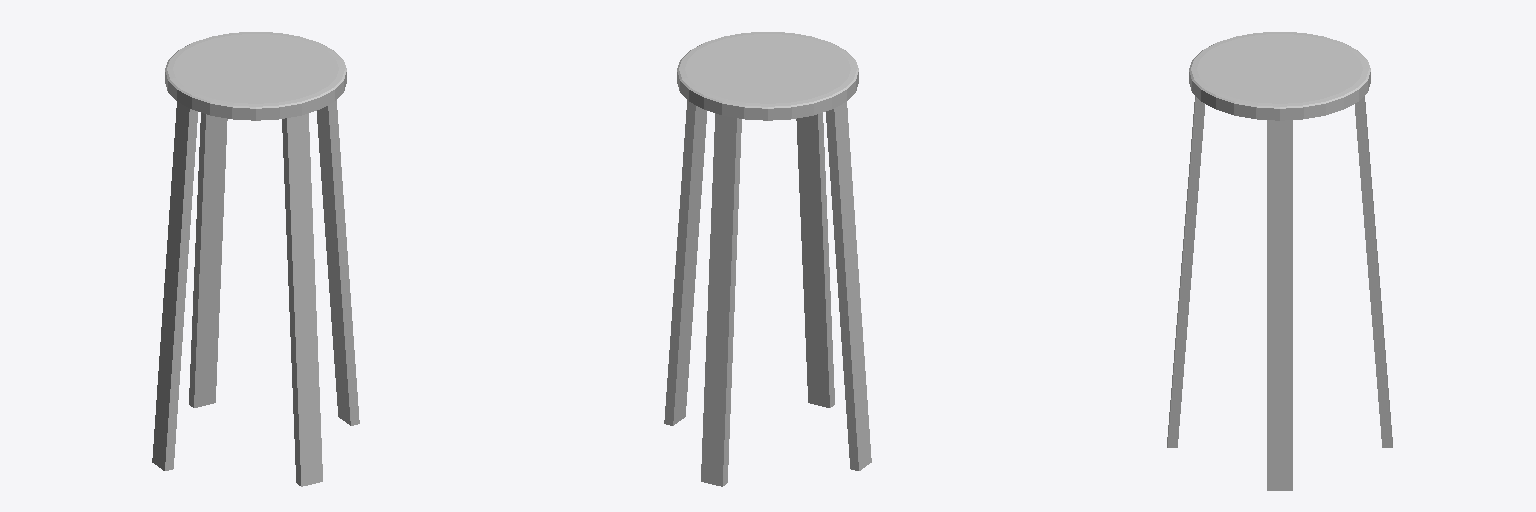
Rendered from stool.obj.
The picture shows the model from 3 angles: view 1: azimuth 30°, elevation 25°; view 2: azimuth 150°, elevation 25°; view 3: azimuth 270°, elevation 25°; orthographic projection.
Visible parts, largest first — view 1: Cube.001, Cube, Cylinder; view 2: Cube.001, Cube, Cylinder; view 3: Cylinder, Cube, Cube.001.
Boxes of the visible parts, x1=… form: Cube.001: x1=189, y1=113, x2=322, y2=486; Cube: x1=152, y1=100, x2=359, y2=470; Cylinder: x1=165, y1=32, x2=346, y2=120; Cube.001: x1=701, y1=113, x2=834, y2=486; Cube: x1=664, y1=100, x2=871, y2=470; Cylinder: x1=677, y1=32, x2=858, y2=120; Cylinder: x1=1189, y1=32, x2=1370, y2=120; Cube: x1=1267, y1=120, x2=1292, y2=490; Cube.001: x1=1167, y1=96, x2=1392, y2=447.
Size of the model in its own units: 2.96 by 5.42 by 2.96.